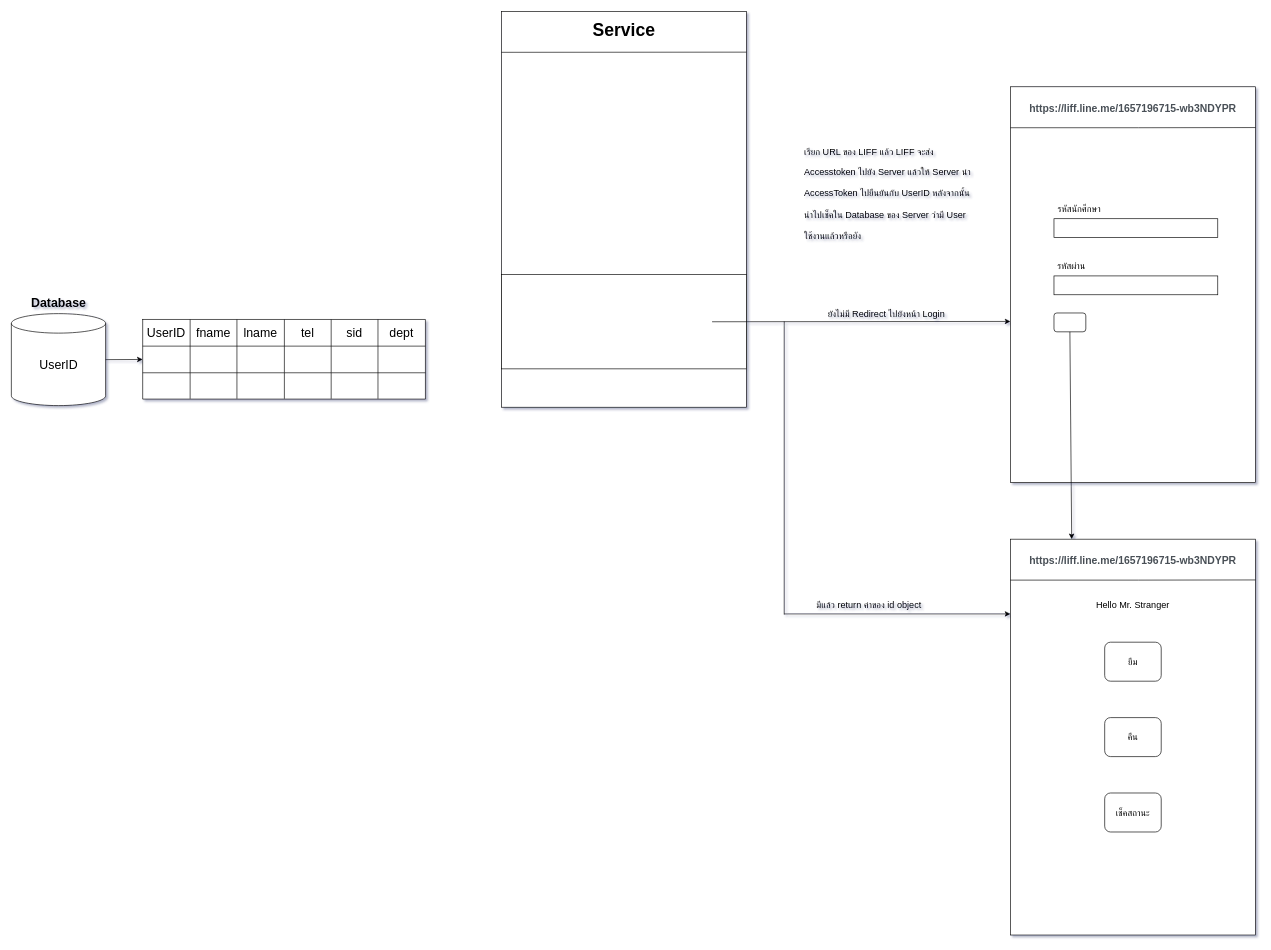
This 1271x950 diagram has some shape labels left out. Here are the shapes that lost their labels. From the top down, the centre of each, then its label:
point (624, 321): ยืม - คืน
point (1069, 322): Login
